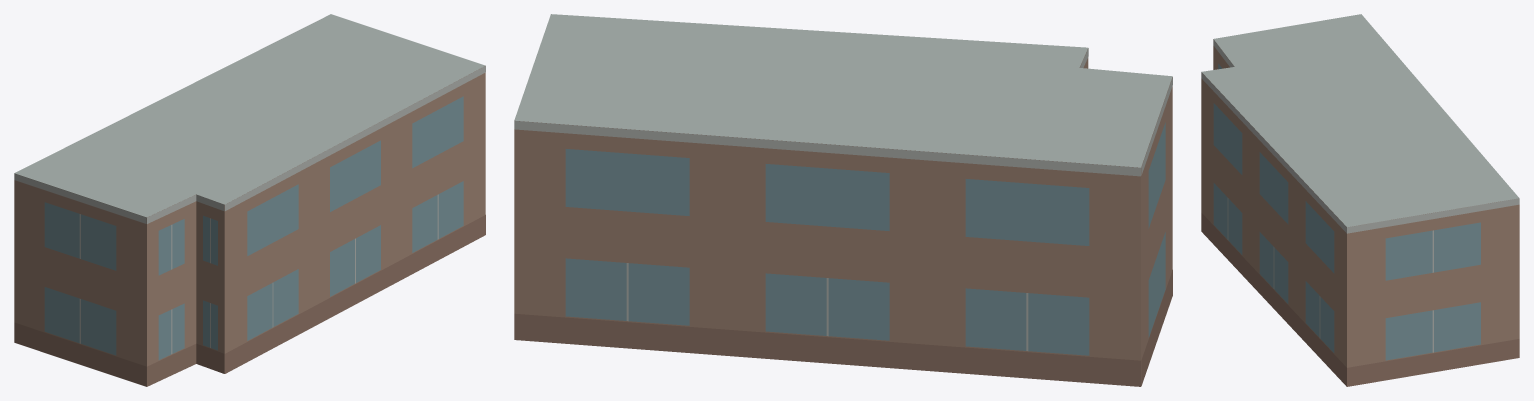
The model's file is survey-upis-32998508.glb.
The picture shows the model from 3 angles, left to right: view 1: azimuth 30°, elevation 25°; view 2: azimuth 150°, elevation 25°; view 3: azimuth 270°, elevation 25°; orthographic projection. The views are drawn at different scales.
Visible parts, largest first — view 1: survey-upis-32998508.tmp; view 2: survey-upis-32998508.tmp; view 3: survey-upis-32998508.tmp.
Boxes of the visible parts, x1,y1,x2,y2 form: survey-upis-32998508.tmp: (14, 14, 485, 386); survey-upis-32998508.tmp: (514, 14, 1172, 386); survey-upis-32998508.tmp: (1201, 14, 1519, 386).
Bounding box in the file's own units: 17.49 × 6.1 × 11.03.
